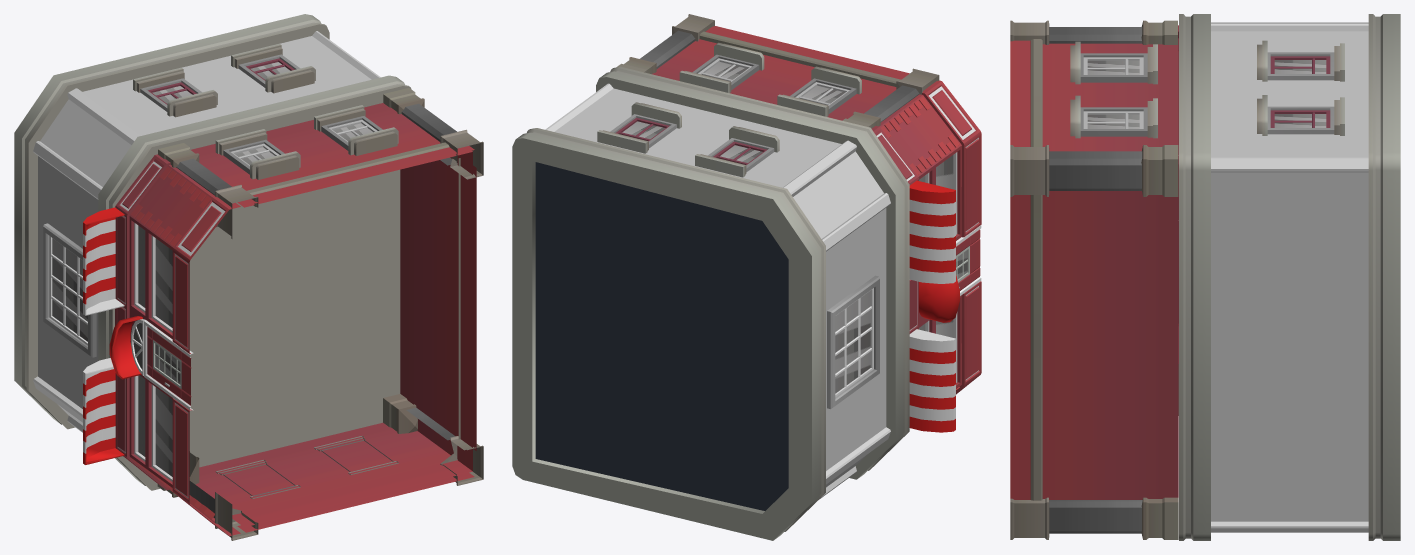
The model's file is Building_3_2_F.fbx.
The picture shows the model from 3 angles, left to right: view 1: azimuth 30°, elevation 25°; view 2: azimuth 150°, elevation 25°; view 3: azimuth 270°, elevation 25°; orthographic projection. The views are drawn at different scales.
Visible parts, largest first — view 1: Building 3_2_F; view 2: Building 3_2_F; view 3: Building 3_2_F.
Part boxes in pixels (bbox=[...]): Building 3_2_F: bbox=[14, 14, 483, 540]; Building 3_2_F: bbox=[512, 14, 981, 540]; Building 3_2_F: bbox=[1010, 14, 1400, 540].
Size of the model in its own units: 820 by 816 by 726.
